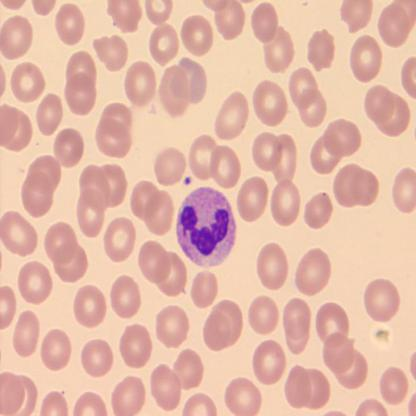Segmented neutrophil: (173, 184, 238, 270)
